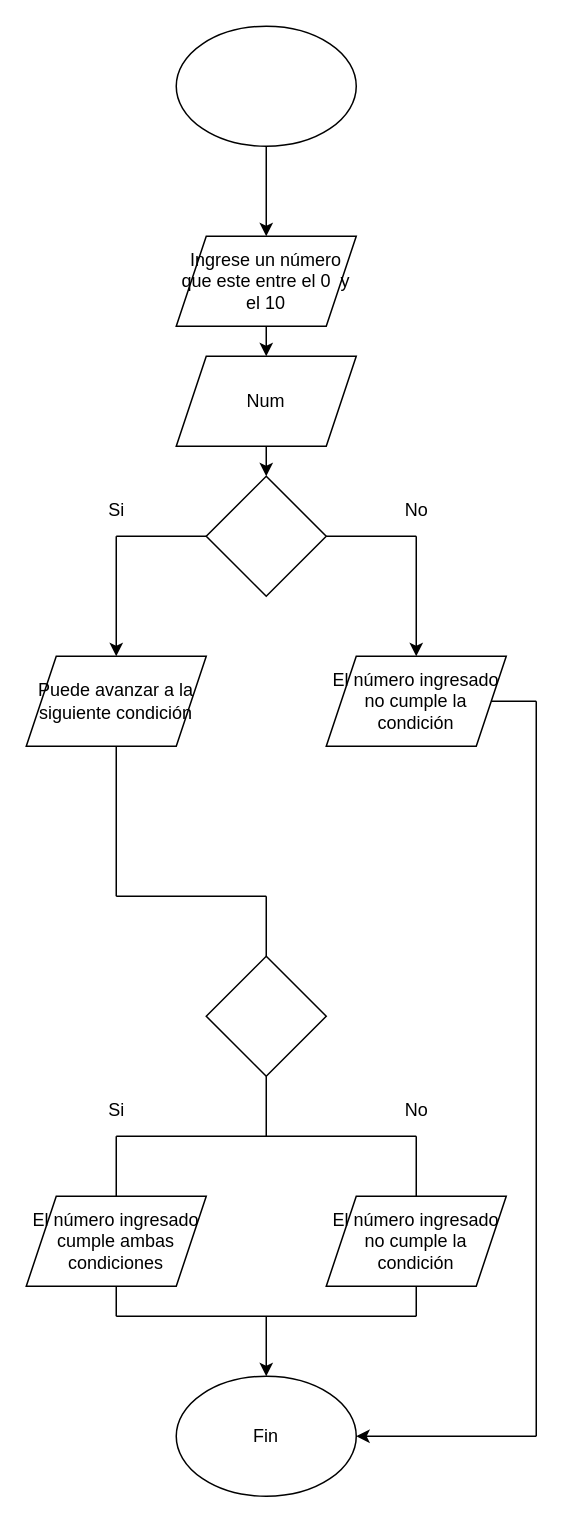
The diagram is 575 pixels wide and 1523 high, and some of its shapes have lost their labels. The box of each missing label's shape, as (x1, y1, x2, y2) in pixels:
Inicio: (175, 25, 356, 146)
Num 10 <=: (205, 955, 326, 1076)
Num >= 0: (205, 475, 326, 596)
